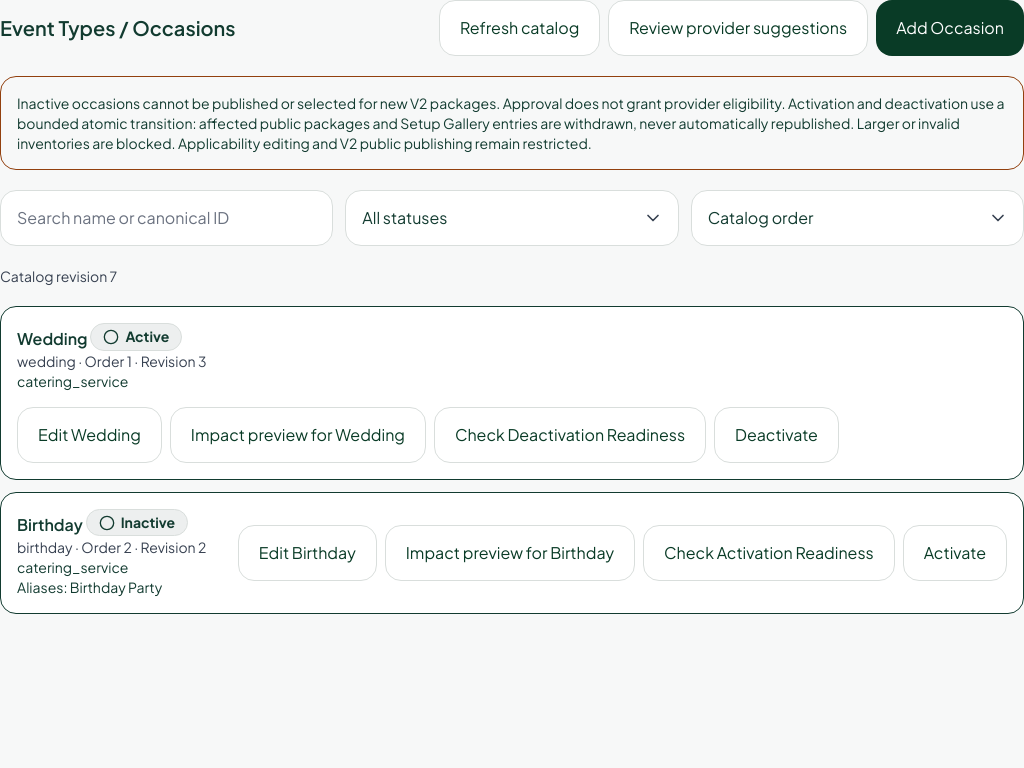
Scenario: Admin occasion maintenance › checks deactivation with server authority and preserves its blockers
The image size is (1024, 768).
Expected: the button "Edit Wedding" is shown, [17, 407, 162, 463]
Click the button with aria-label "Check Deactivation Readiness for Wedding". click: (570, 435)
box: [434, 407, 706, 463]
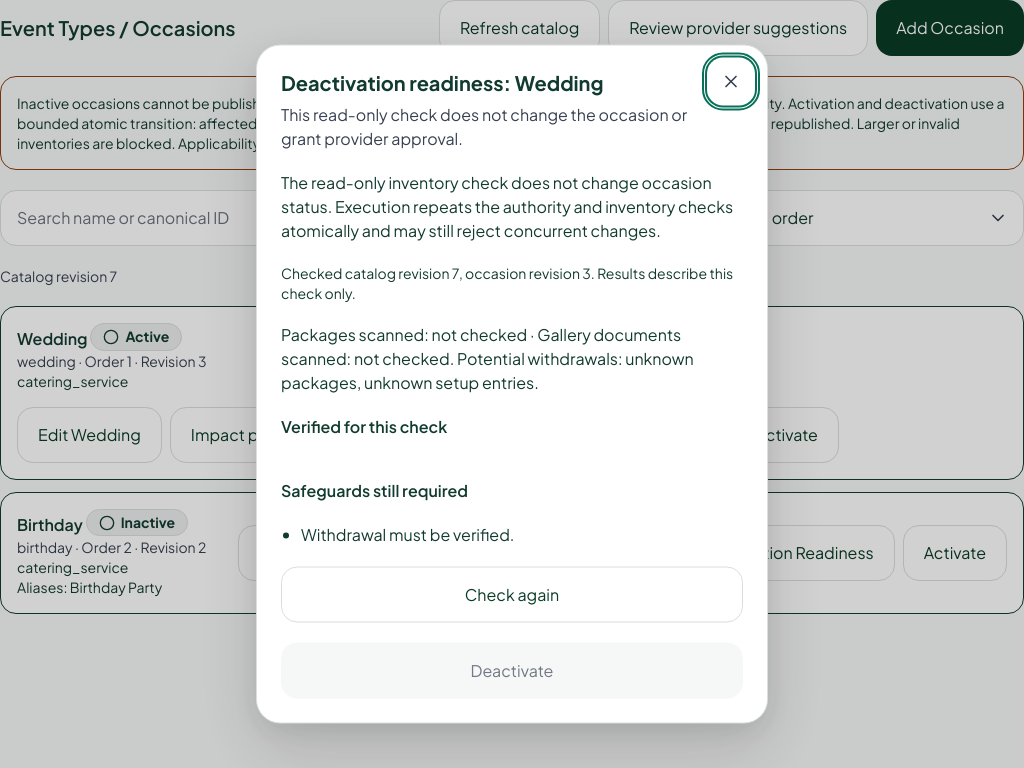
Expected: the list item "Withdrawal must be verified." is shown, [301, 524, 514, 544]
Expected: the button "Deactivate" is disabled, [281, 642, 743, 698]
